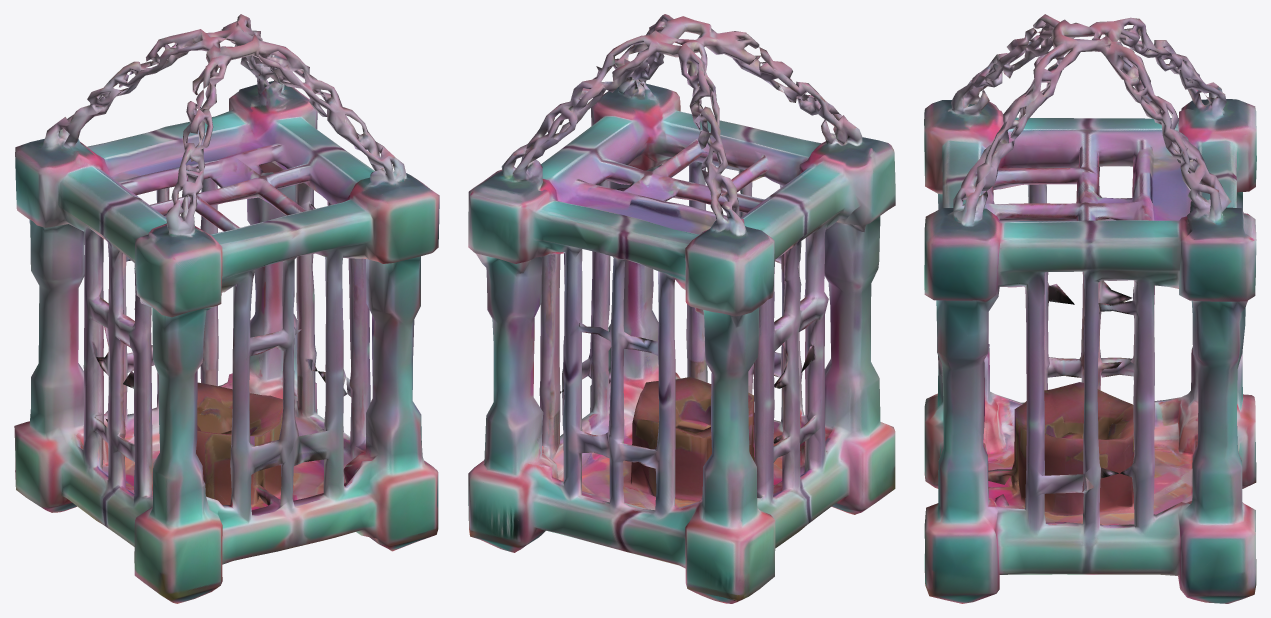
File: Meshy_AI_Crystal_Cage_Above_La_0415132804_texture.glb
3 views of the same model, side by side, from view 1: azimuth 30°, elevation 25°; view 2: azimuth 150°, elevation 25°; view 3: azimuth 270°, elevation 25° (orthographic). The views are drawn at different scales.
Bounding box in the file's own units: 1.17 × 2 × 1.15.
1 material, 1 textured.
